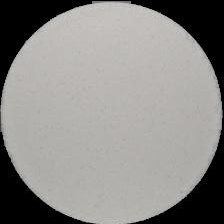21695-800: (0, 0, 224, 224)
